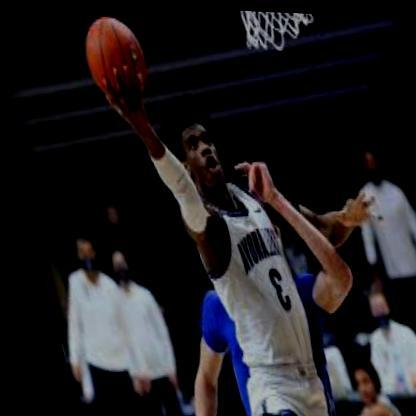basketball: (75, 12, 154, 110)
